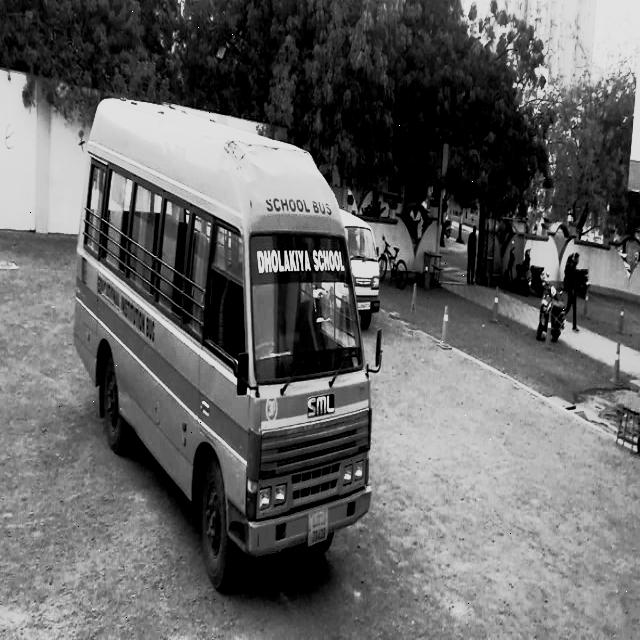Bus: (69, 63, 391, 608)
